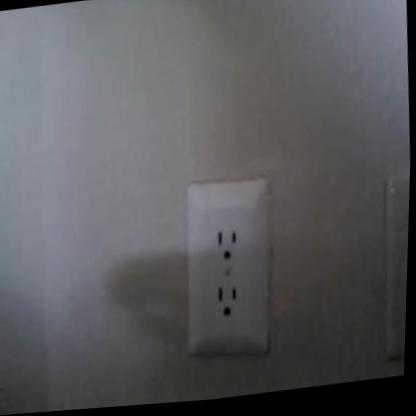OUTLET: (179, 173, 276, 358)
